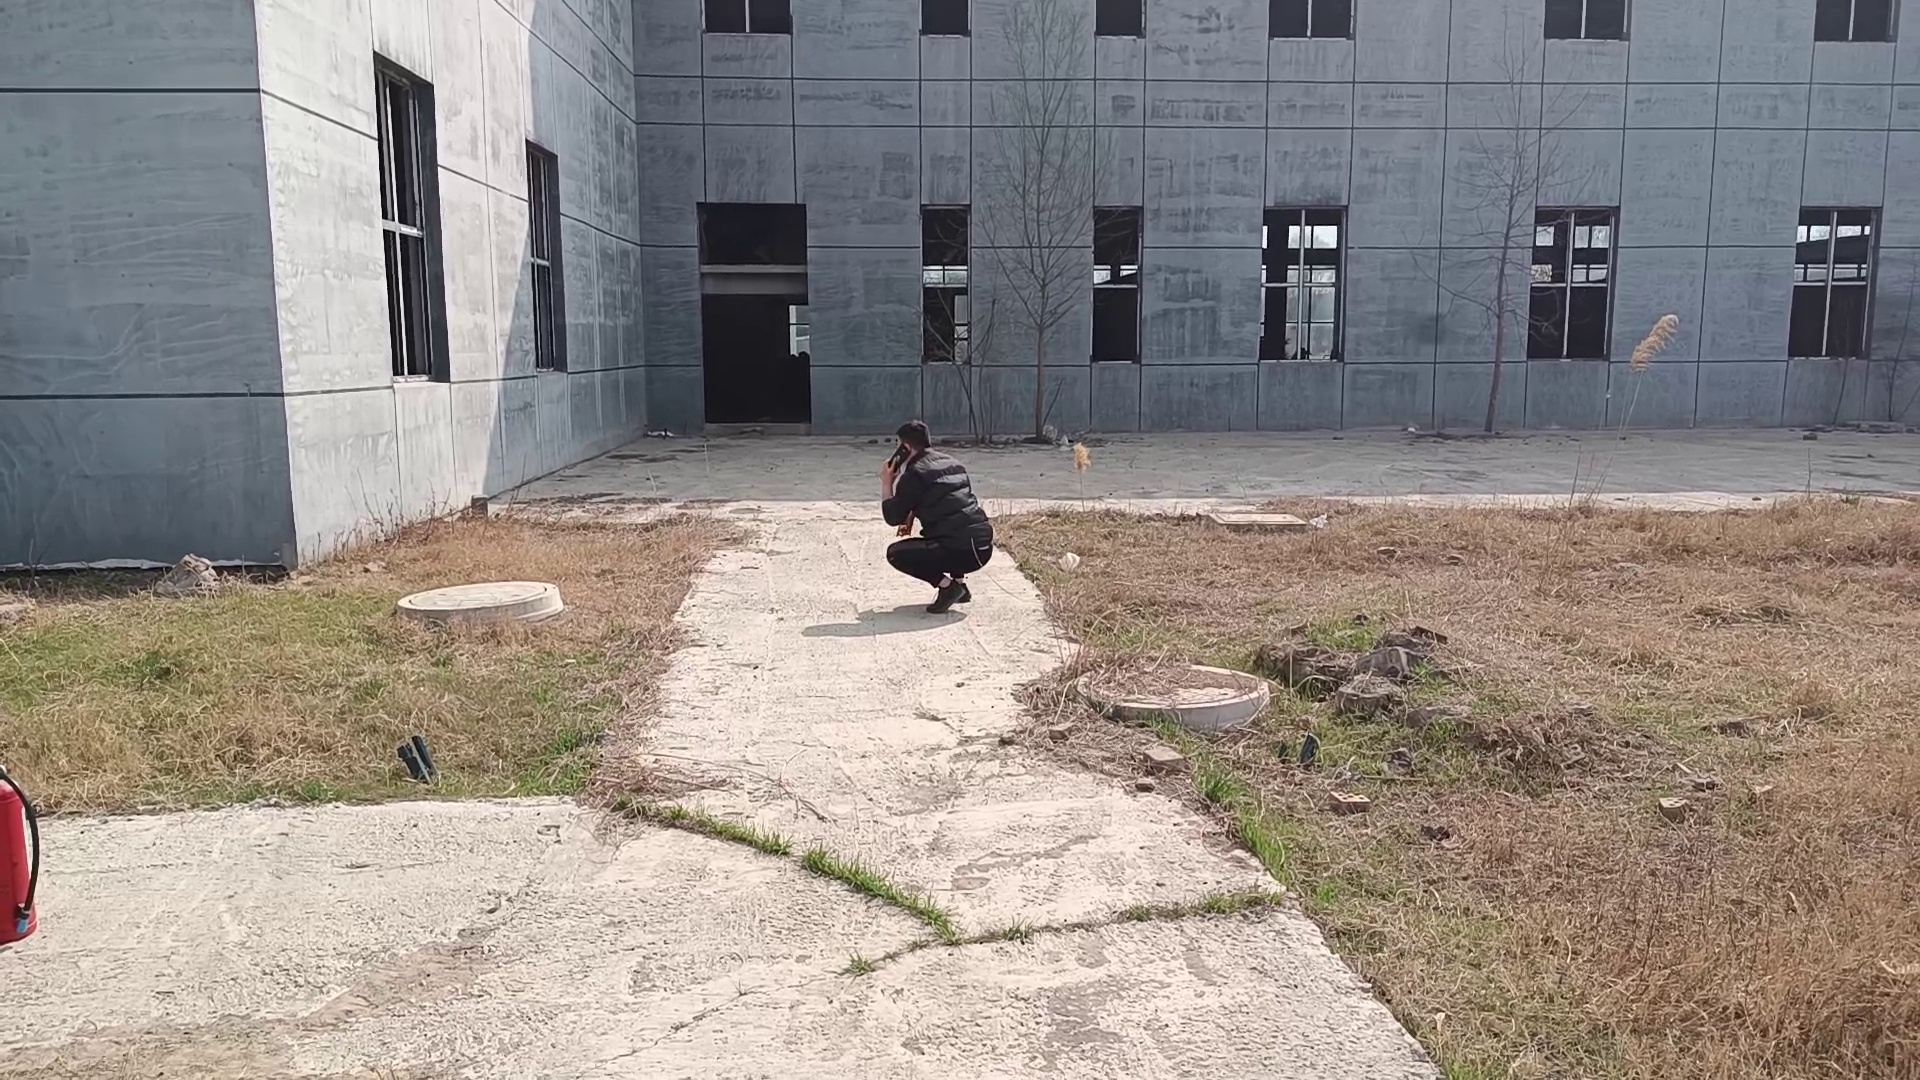phone: (884, 419, 942, 489)
